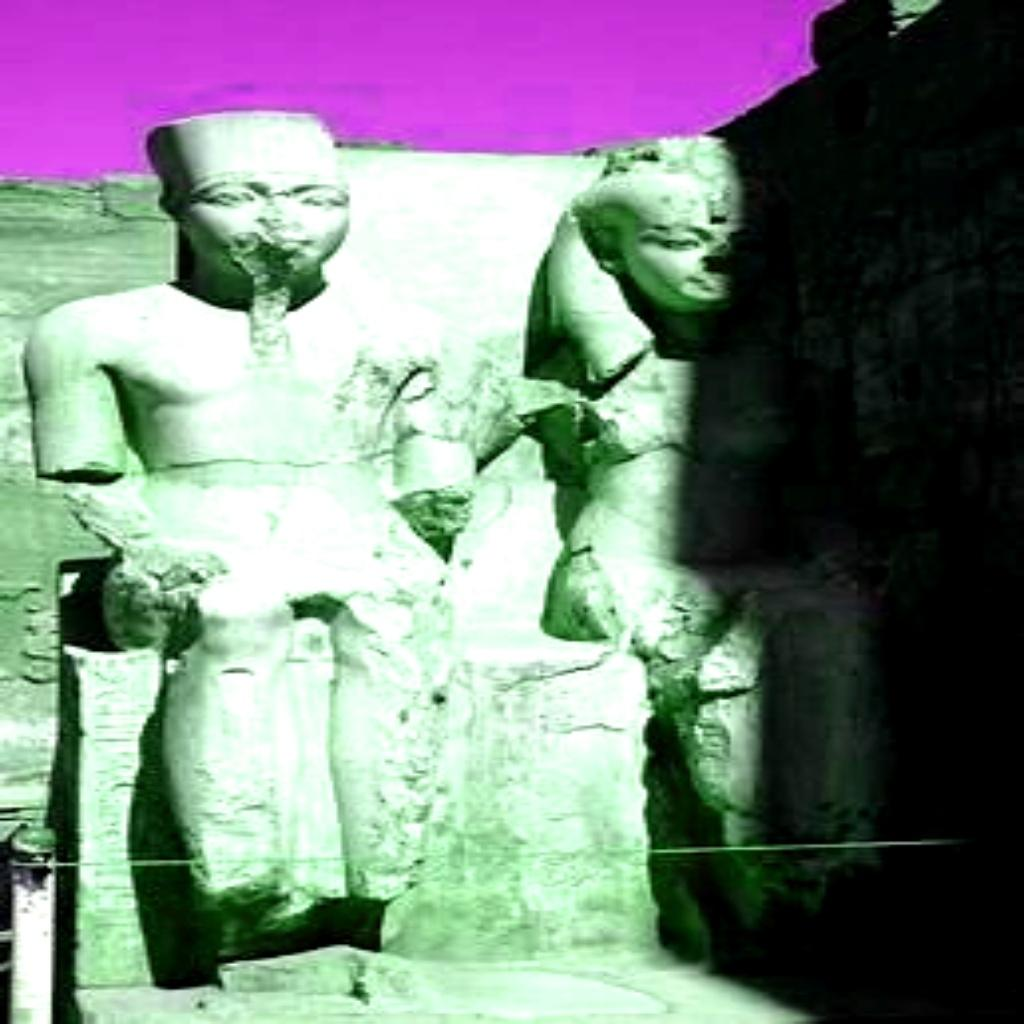Statue of Ankhesenamun: (476, 130, 889, 972)
Statue of Tutankhamun: (20, 106, 492, 976)
